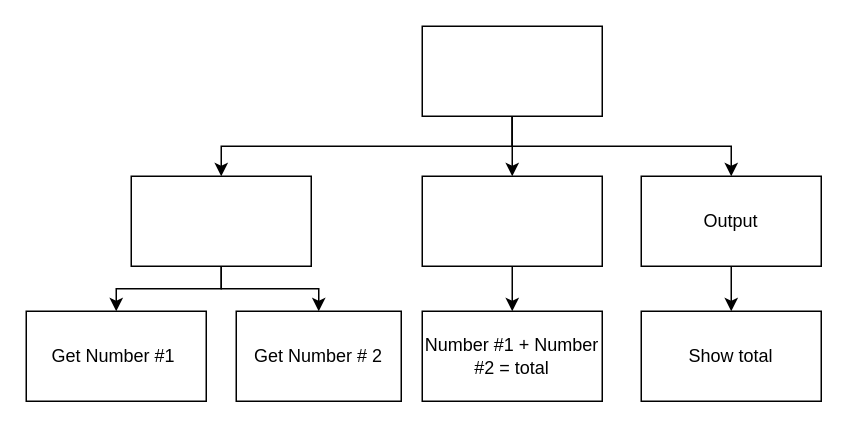
Some shapes in this 848 by 428 pixel diagram are drawn without their labels. Each missing label, with the centre of its shape:
Area & Perimeter: [511,70]
Input: [220,220]
Process: [511,220]
